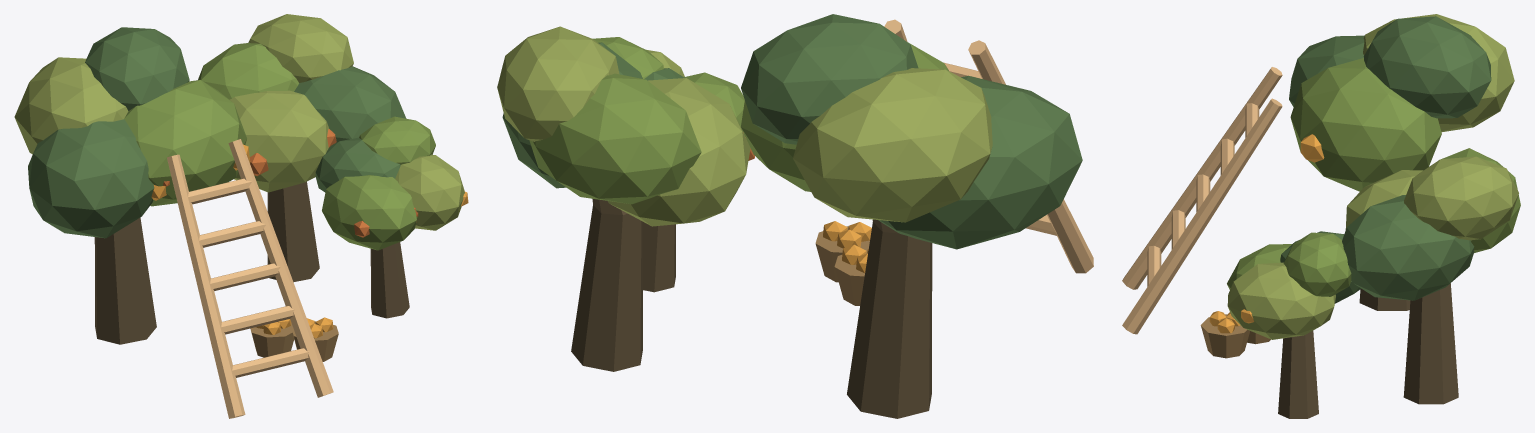
The model's file is wild-orchard.glb.
3 renders of one model, left to right at view 1: azimuth 30°, elevation 25°; view 2: azimuth 150°, elevation 25°; view 3: azimuth 270°, elevation 25°, orthographic. The views are drawn at different scales.
Parts seen in each view (by area): view 1: wild-orchard; view 2: wild-orchard; view 3: wild-orchard.
Boxes of the visible parts, bbox=[...] form: wild-orchard: bbox=[14, 14, 468, 418]; wild-orchard: bbox=[497, 14, 1093, 418]; wild-orchard: bbox=[1122, 14, 1520, 418].
Size of the model in its own units: 1.11 by 0.7707 by 0.9498.
